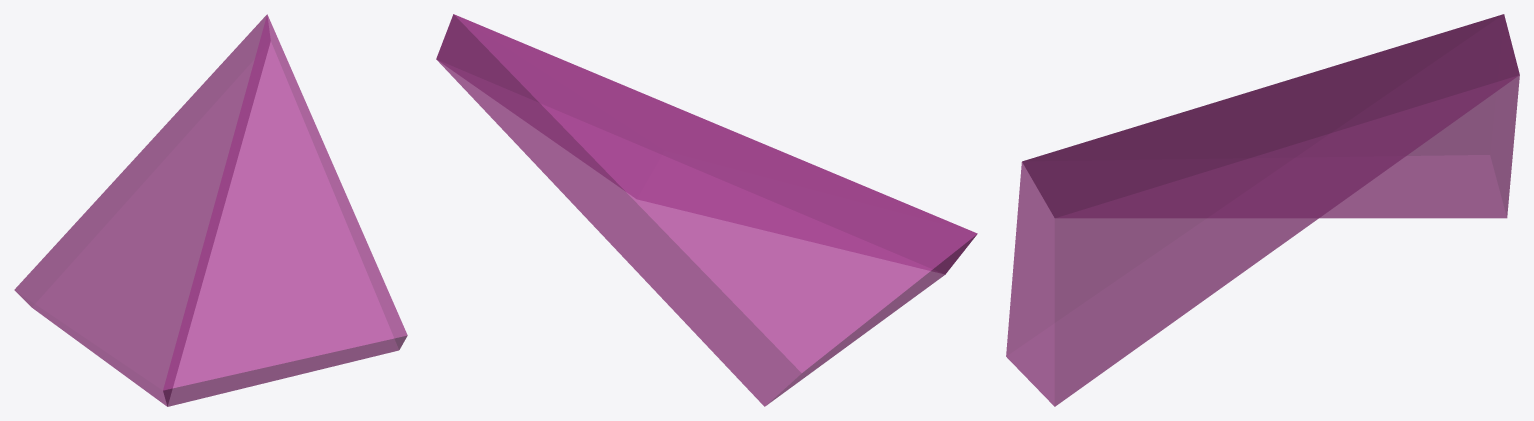
Rendered from SM_Bld_Roof_Corner_01_Collision_01.fbx.
The picture shows the model from 3 angles, left to right: view 1: azimuth 30°, elevation 25°; view 2: azimuth 150°, elevation 25°; view 3: azimuth 270°, elevation 25°; orthographic projection. The views are drawn at different scales.
Visible parts, largest first — view 1: SM_Bld_Roof_Corner_01_Collision_01; view 2: SM_Bld_Roof_Corner_01_Collision_01; view 3: SM_Bld_Roof_Corner_01_Collision_01.
Boxes of the visible parts, x1=… form: SM_Bld_Roof_Corner_01_Collision_01: x1=14, y1=14, x2=407, y2=406; SM_Bld_Roof_Corner_01_Collision_01: x1=436, y1=14, x2=977, y2=406; SM_Bld_Roof_Corner_01_Collision_01: x1=1006, y1=14, x2=1519, y2=406.
Size of the model in its own units: 292 by 249 by 294.
